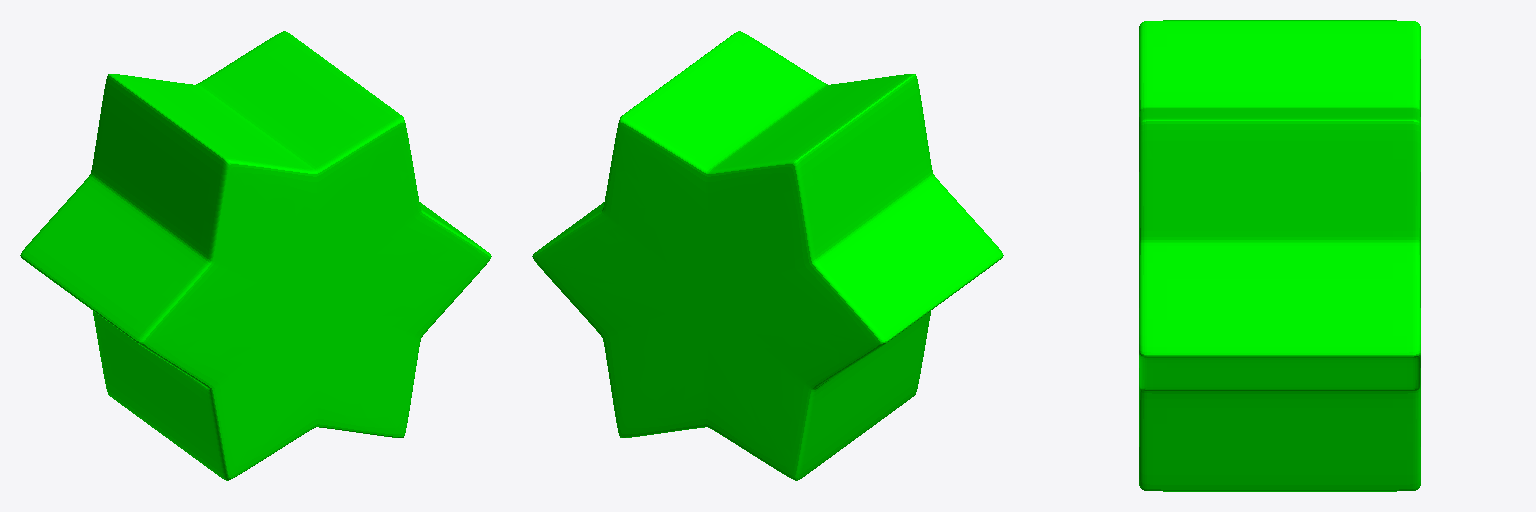
robot.urdf — p3.urdf:
<?xml version="0.0" ?>
<robot name="p3.urdf">
  <link name="baseLink">
    <contact>
      <lateral_friction value="1.0"/>
  <!--     <rolling_friction value="0.0"/>
      <spinning_friction value="0.01">
      <inertia_scaling value="3.0"/>
      <contact_cfm value="0.0"/>
      <contact_erp value="1.0"/> -->
    </contact>
    <inertial>
      <origin rpy="0 0 0" xyz="0 0 0"/>
       <mass value=".09"/>
       <inertia ixx="1" ixy="0" ixz="0" iyy="1" iyz="0" izz="1"/>
    </inertial>
    <visual>
      <origin rpy="0 0 0" xyz="0 0 0"/>
        <geometry>
      <mesh filename="P3.obj" scale=".06 .06 .06"/>
        </geometry>
        <material name="green">
          <color rgba="0 1 0 0"/>
        </material>
    </visual>
    <collision>
        <origin rpy="0 0 0" xyz="0 0 0"/>
        <geometry>
          <mesh filename="P3.obj" scale=".06 .06 .06"/>
        </geometry>
    </collision>
  </link>
</robot>

--- Render facts (derived) ---
3 views of the same robot in one strip: view 1: azimuth 30°, elevation 25°; view 2: azimuth 150°, elevation 25°; view 3: azimuth 270°, elevation 25° (orthographic).
Model p3.urdf with 1 links and 0 joints (none), rooted at baseLink, posed all joints at 0.
Visible links, largest first — view 1: baseLink; view 2: baseLink; view 3: baseLink.
Link boxes in pixels (<box>): baseLink: <box>20,31,491,480</box>; baseLink: <box>532,31,1003,480</box>; baseLink: <box>1139,20,1420,491</box>.
Bounding box of the posed robot: 0.2033 × 0.1216 × 0.1764 m (x, y, z).
1 mesh visuals loaded from 1 distinct referenced files (1 OBJ).